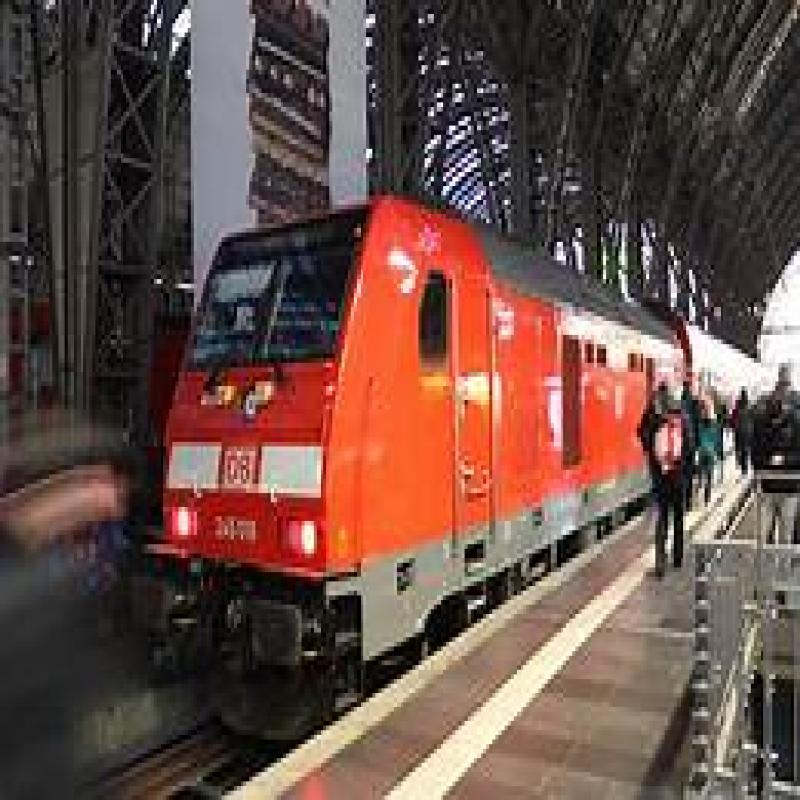train: (177, 192, 626, 652)
